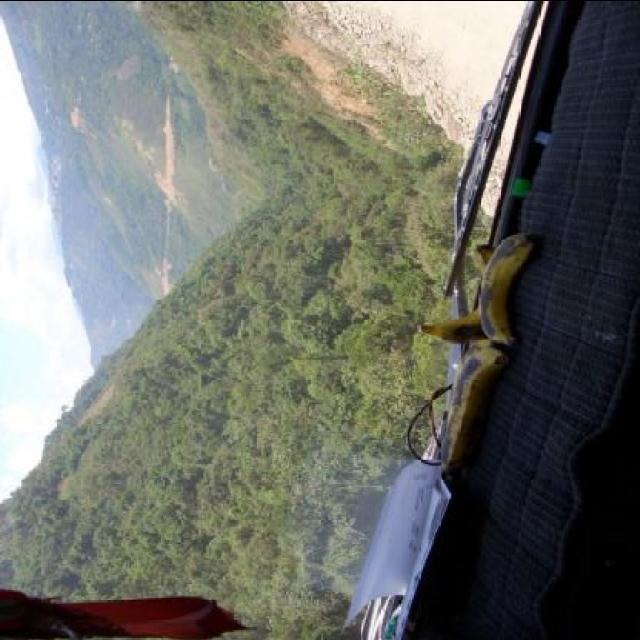Banana: (438, 339, 508, 484), (417, 244, 495, 342)
